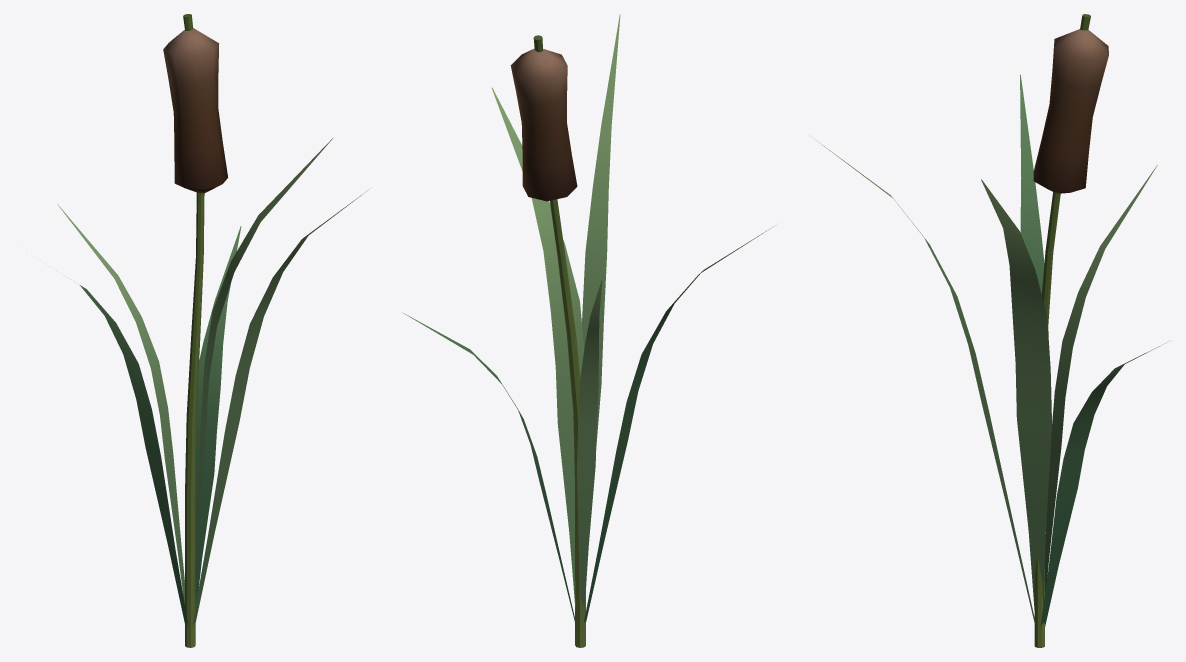
File: cattail_1.fbx
The picture shows the model from 3 angles, left to right: view 1: azimuth 30°, elevation 25°; view 2: azimuth 150°, elevation 25°; view 3: azimuth 270°, elevation 25°; orthographic projection. The views are drawn at different scales.
Parts seen in each view (by area): view 1: cattail_2; view 2: cattail_2; view 3: cattail_2.
Boxes of the visible parts, <box> form: cattail_2: <box>57,14,367,647</box>; cattail_2: <box>402,14,773,647</box>; cattail_2: <box>816,14,1169,647</box>.
Size of the model in its own units: 114 by 222 by 114.
